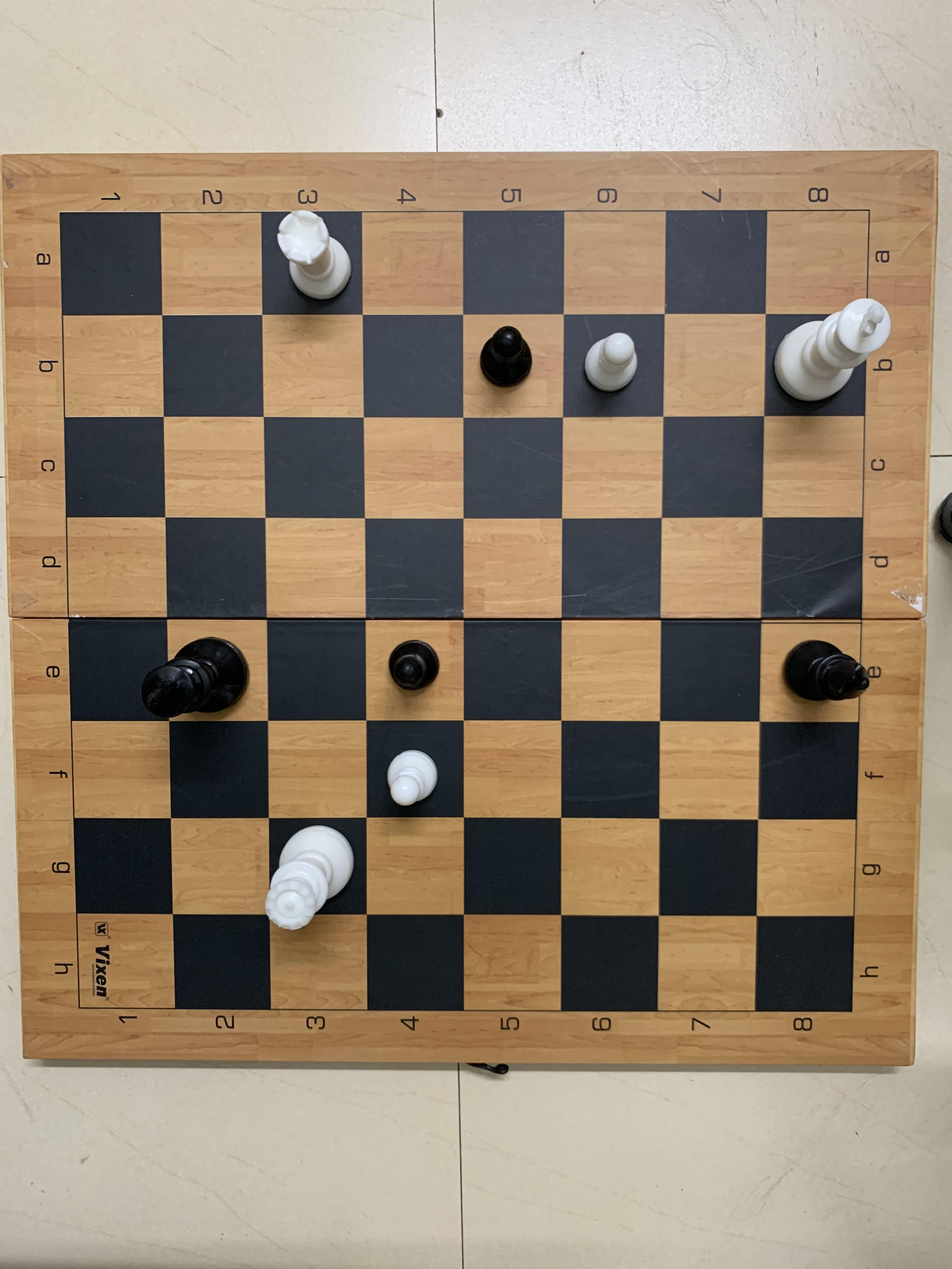black_bishop: (775, 629, 875, 720)
black_king: (129, 626, 258, 727)
black_pawn: (479, 319, 537, 391), (383, 631, 443, 700)
white_king: (761, 290, 893, 413)
white_pawn: (376, 740, 451, 812), (577, 327, 643, 399)
white_queen: (261, 815, 365, 942)
white_rook: (270, 201, 359, 308)
